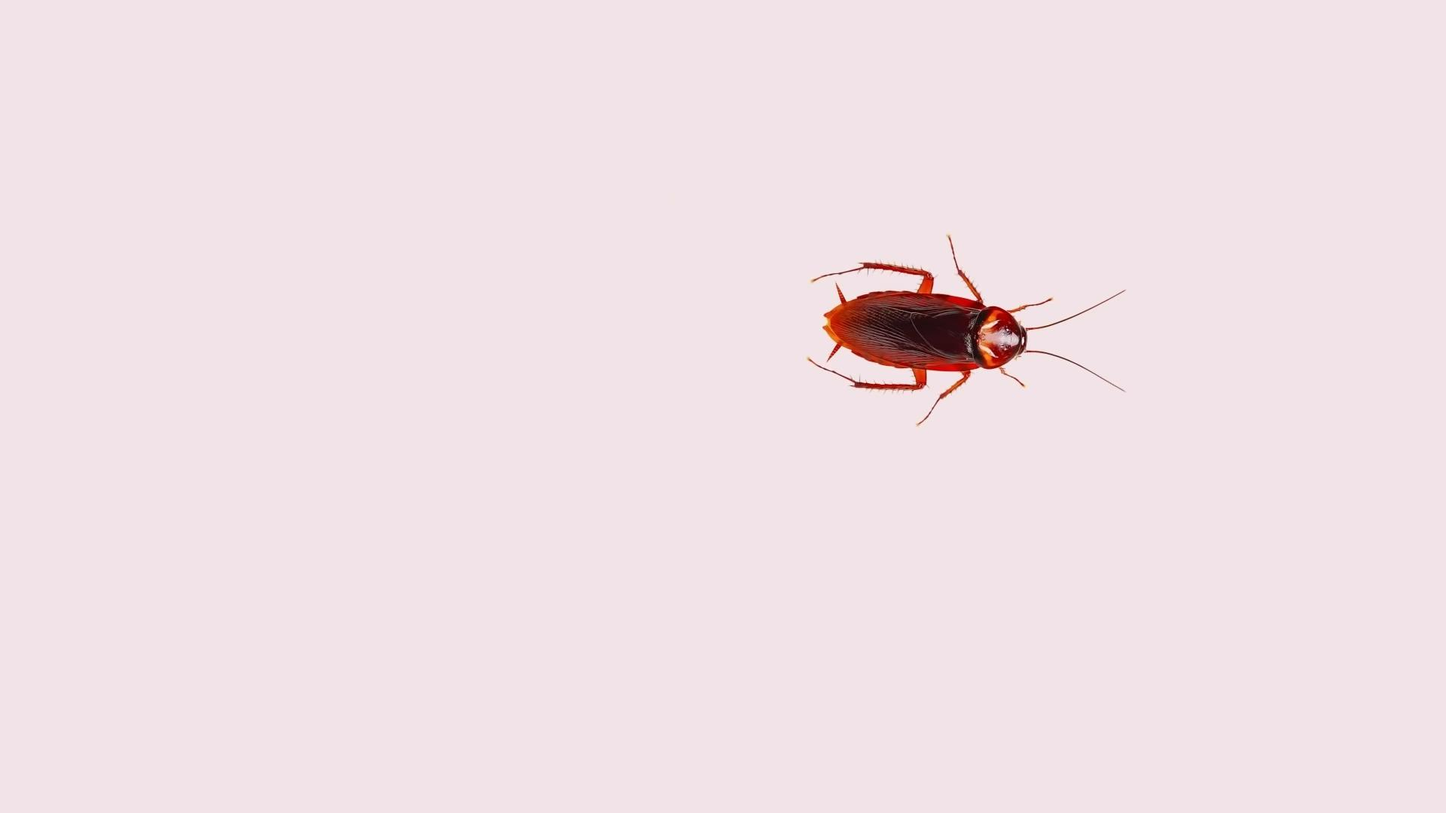cockroach: (782, 222, 1135, 445)
